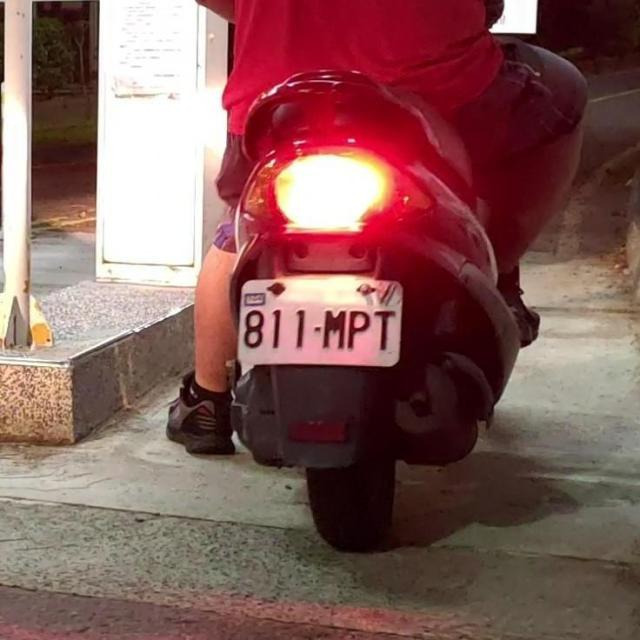W: (235, 269, 408, 372)
